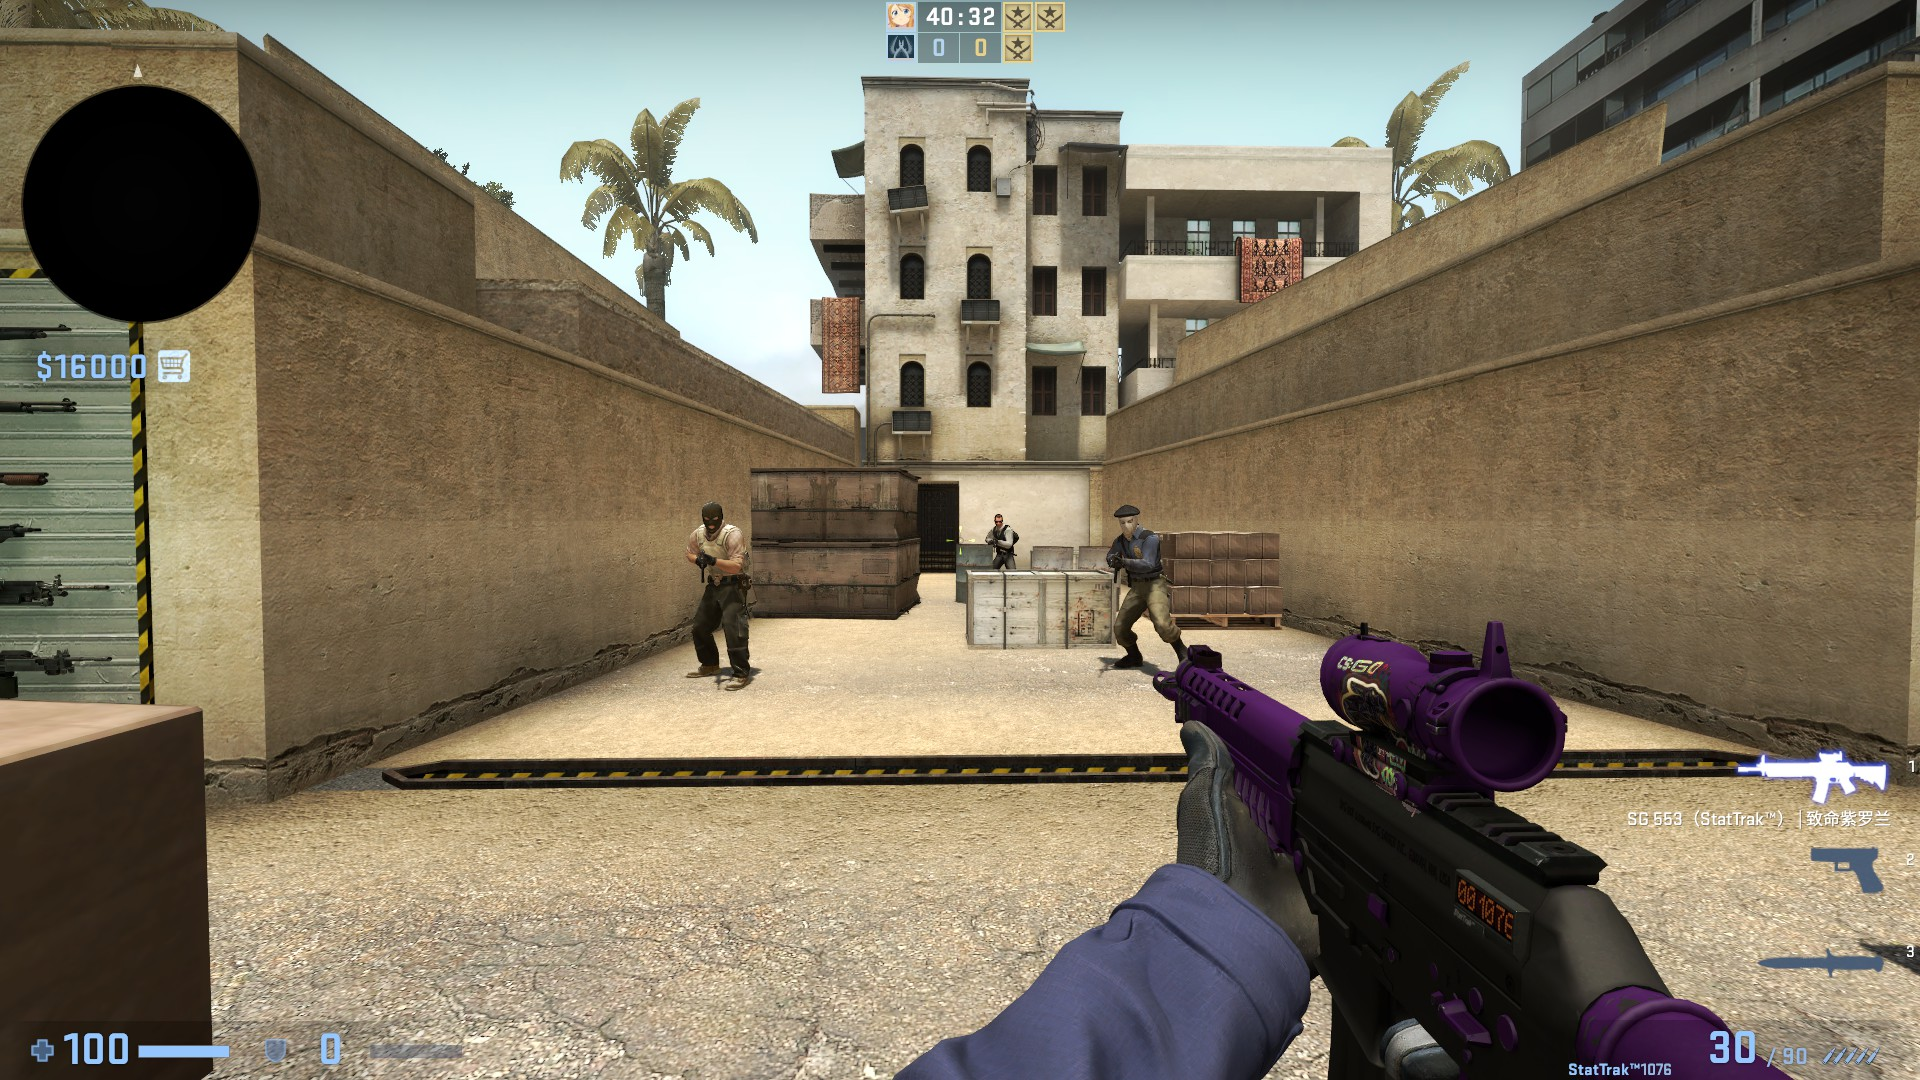head: (1110, 502, 1142, 539), (698, 501, 723, 532), (992, 512, 1003, 528)
